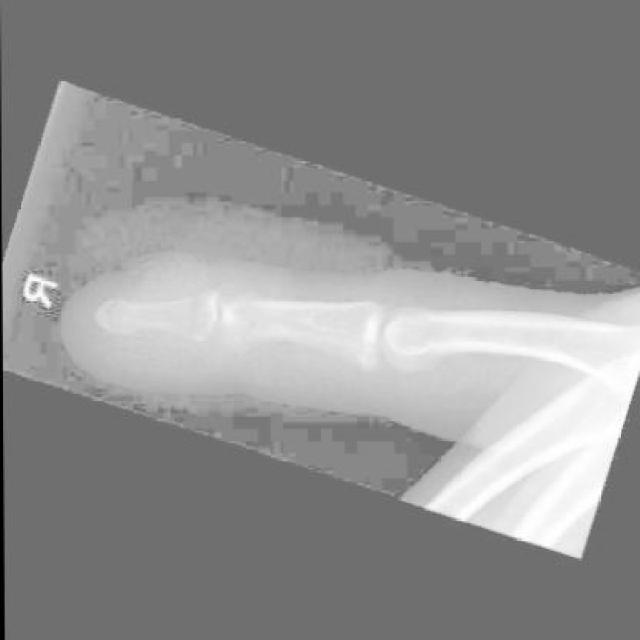Fracture: (174, 286, 219, 344), (97, 294, 137, 336)
